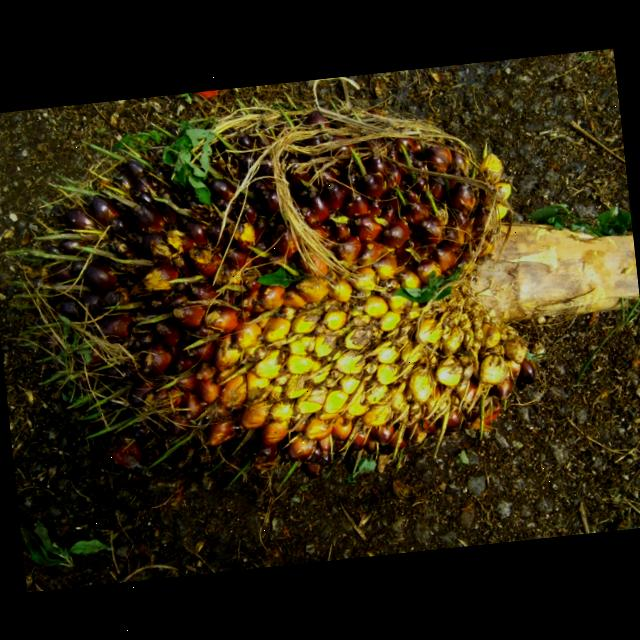Unripe: (44, 106, 540, 488)
